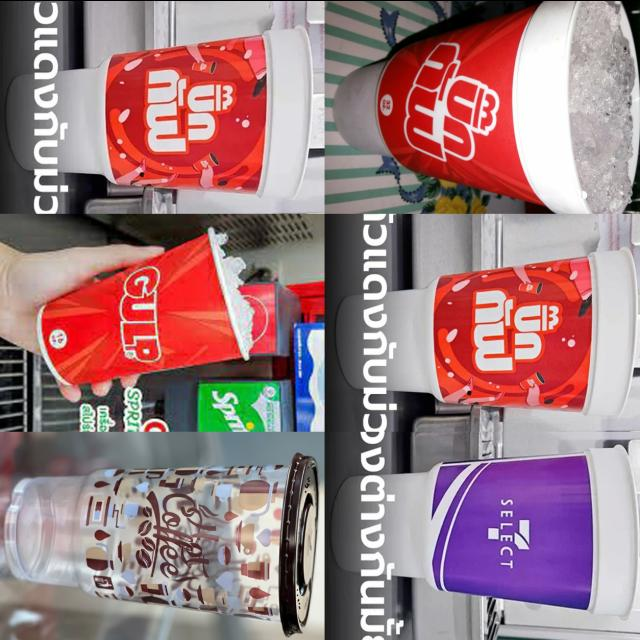plastik: (0, 448, 325, 640), (326, 436, 640, 624), (330, 236, 640, 425), (12, 17, 318, 200), (333, 0, 591, 212), (38, 234, 241, 384)
